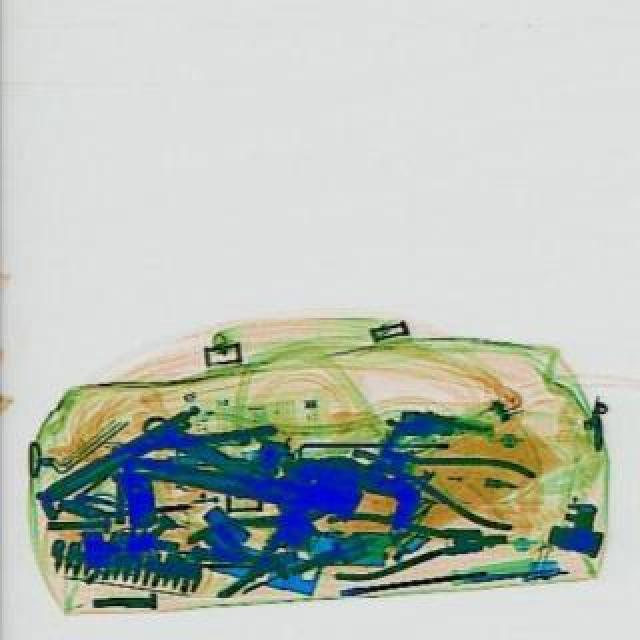scissors: (132, 392, 340, 532)
wrench: (340, 416, 536, 536), (180, 474, 338, 598), (322, 504, 504, 580)
